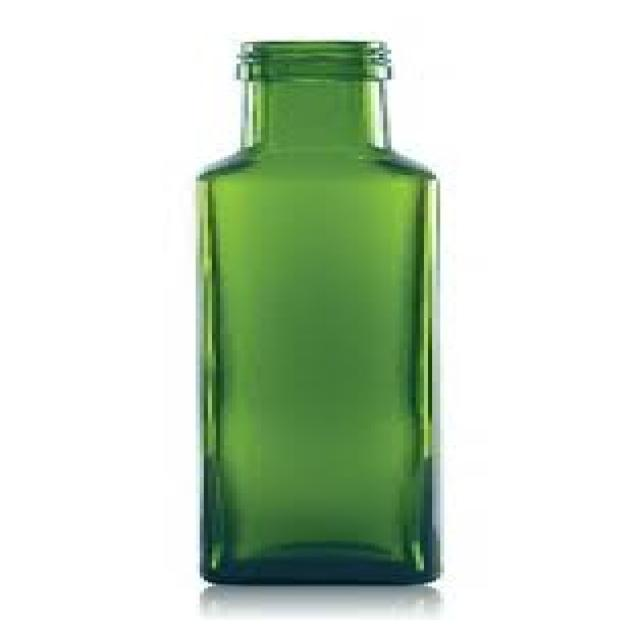glass: (192, 42, 444, 588)
